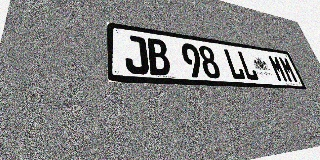8: (197, 45, 222, 79)
9: (180, 42, 205, 78)
B: (146, 38, 172, 76)
J: (123, 34, 150, 75)
L: (236, 50, 260, 81), (223, 48, 246, 80)
M: (267, 55, 289, 83), (278, 56, 299, 83)
